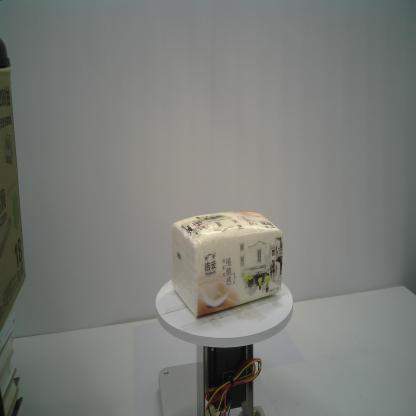Tissue: (170, 210, 285, 320)
